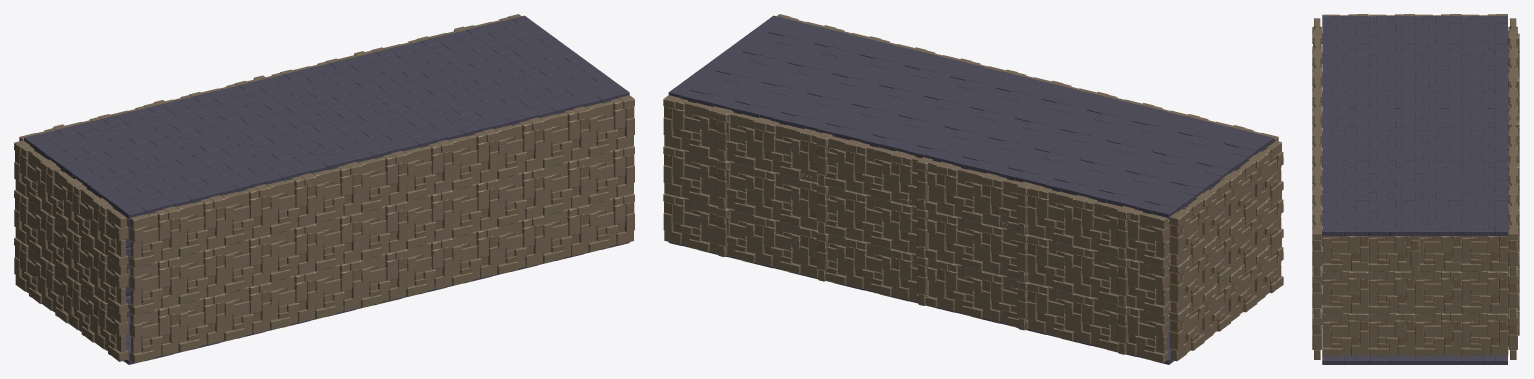
File: prison.glb
The picture shows the model from 3 angles, left to right: view 1: azimuth 30°, elevation 25°; view 2: azimuth 150°, elevation 25°; view 3: azimuth 270°, elevation 25°; orthographic projection. The views are drawn at different scales.
Visible parts, largest first — view 1: Wall_Modular.005, Wall_Modular.003, Wall_Modular.001, Wall_Modular.026, Wall_Modular.040, Wall_Modular.012, Wall_Modular.054, Wall_Modular.068, Wall_Modular.033, Wall_Modular.019, Wall_Modular.047, Wall_Modular.061 (+77 smaller); view 2: Wall_Modular.020, Wall_Modular.034, Wall_Modular.048, Wall_Modular.062, Wall_Modular.076, Wall_Modular.013, Wall_Modular.016, Wall_Modular.018, Wall_Modular.044, Wall_Modular.030, Wall_Modular.060, Wall_Modular.046 (+92 smaller); view 3: Wall_Modular.096, Wall_Modular.093, Wall_Modular.099, Wall_Modular.090, Wall_Modular.091, Wall_Modular.100, Wall_Modular.097, Wall_Modular.094, Wall_Modular.092, Wall_Modular.101, Wall_Modular.098, Wall_Modular.095 (+77 smaller).
Part boxes in pixels (x1=…): Wall_Modular.005: x1=129, y1=206, x2=179, y2=268; Wall_Modular.003: x1=129, y1=257, x2=179, y2=315; Wall_Modular.001: x1=129, y1=304, x2=179, y2=363; Wall_Modular.026: x1=267, y1=173, x2=316, y2=234; Wall_Modular.040: x1=358, y1=151, x2=407, y2=212; Wall_Modular.012: x1=176, y1=195, x2=225, y2=256; Wall_Modular.054: x1=449, y1=128, x2=498, y2=190; Wall_Modular.068: x1=540, y1=106, x2=589, y2=168; Wall_Modular.033: x1=312, y1=162, x2=361, y2=223; Wall_Modular.019: x1=221, y1=184, x2=270, y2=245; Wall_Modular.047: x1=403, y1=139, x2=452, y2=201; Wall_Modular.061: x1=494, y1=117, x2=543, y2=179; Wall_Modular.020: x1=1027, y1=184, x2=1076, y2=245; Wall_Modular.034: x1=936, y1=162, x2=985, y2=223; Wall_Modular.048: x1=845, y1=139, x2=894, y2=201; Wall_Modular.062: x1=754, y1=117, x2=803, y2=179; Wall_Modular.076: x1=663, y1=95, x2=712, y2=156; Wall_Modular.013: x1=1072, y1=195, x2=1121, y2=256; Wall_Modular.016: x1=1027, y1=282, x2=1073, y2=340; Wall_Modular.018: x1=1027, y1=234, x2=1073, y2=293; Wall_Modular.044: x1=845, y1=237, x2=891, y2=296; Wall_Modular.030: x1=936, y1=260, x2=982, y2=318; Wall_Modular.060: x1=754, y1=168, x2=800, y2=226; Wall_Modular.046: x1=845, y1=190, x2=891, y2=248; Wall_Modular.096: x1=1415, y1=313, x2=1461, y2=356; Wall_Modular.093: x1=1369, y1=313, x2=1415, y2=356; Wall_Modular.099: x1=1461, y1=313, x2=1508, y2=356; Wall_Modular.090: x1=1322, y1=313, x2=1368, y2=356; Wall_Modular.091: x1=1322, y1=271, x2=1368, y2=313; Wall_Modular.100: x1=1461, y1=271, x2=1508, y2=313; Wall_Modular.097: x1=1415, y1=271, x2=1461, y2=313; Wall_Modular.094: x1=1369, y1=271, x2=1415, y2=313; Wall_Modular.092: x1=1322, y1=236, x2=1368, y2=271; Wall_Modular.101: x1=1461, y1=236, x2=1508, y2=271; Wall_Modular.098: x1=1418, y1=236, x2=1461, y2=271; Wall_Modular.095: x1=1369, y1=236, x2=1411, y2=271.
Size of the model in its own units: 22.45 by 6.38 by 8.94.
